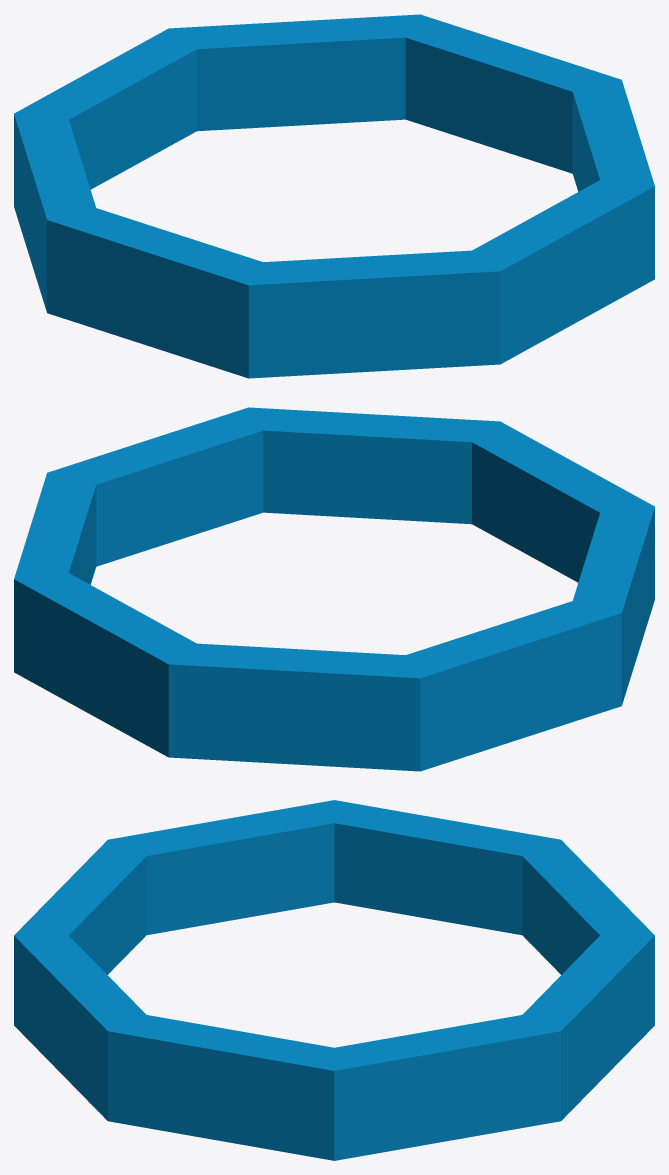
Rendered from portal.fbx.
3 renders of one model, top to bottom at view 1: azimuth 30°, elevation 25°; view 2: azimuth 150°, elevation 25°; view 3: azimuth 270°, elevation 25°, orthographic. The views are drawn at different scales.
Visible parts, largest first — view 1: Cylinder; view 2: Cylinder; view 3: Cylinder.
Part boxes in pixels (x1,y1,x2,y2): Cylinder: [14, 14, 654, 378]; Cylinder: [14, 407, 654, 771]; Cylinder: [14, 800, 654, 1160].
Size of the model in its own units: 2 by 0.3099 by 2.
